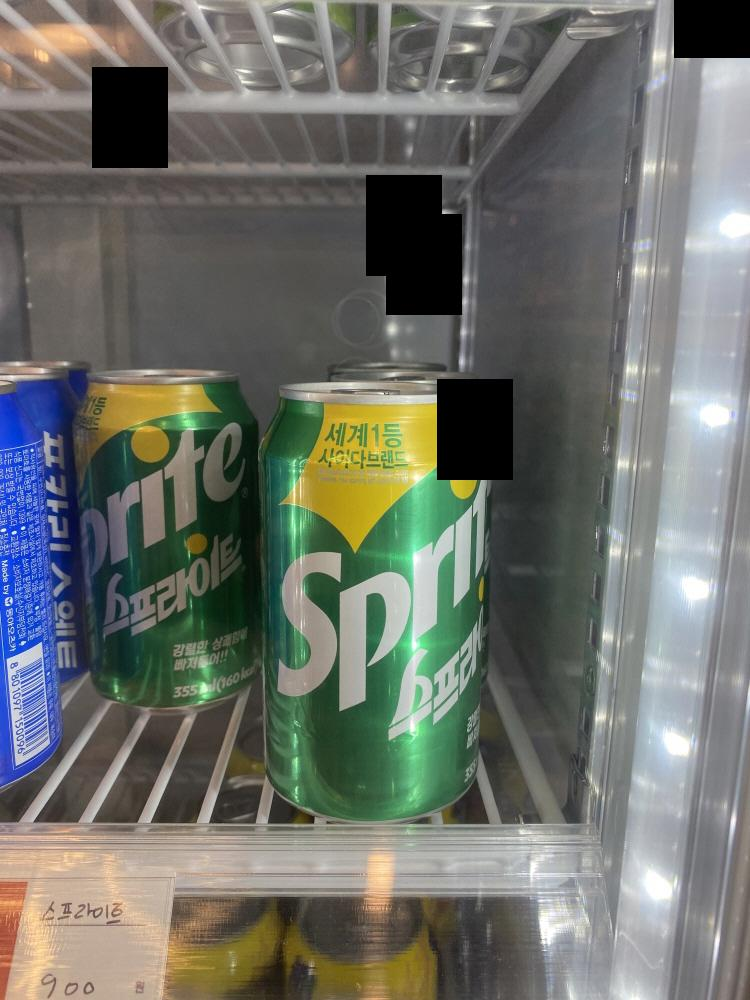sprite: (243, 378, 514, 849)
